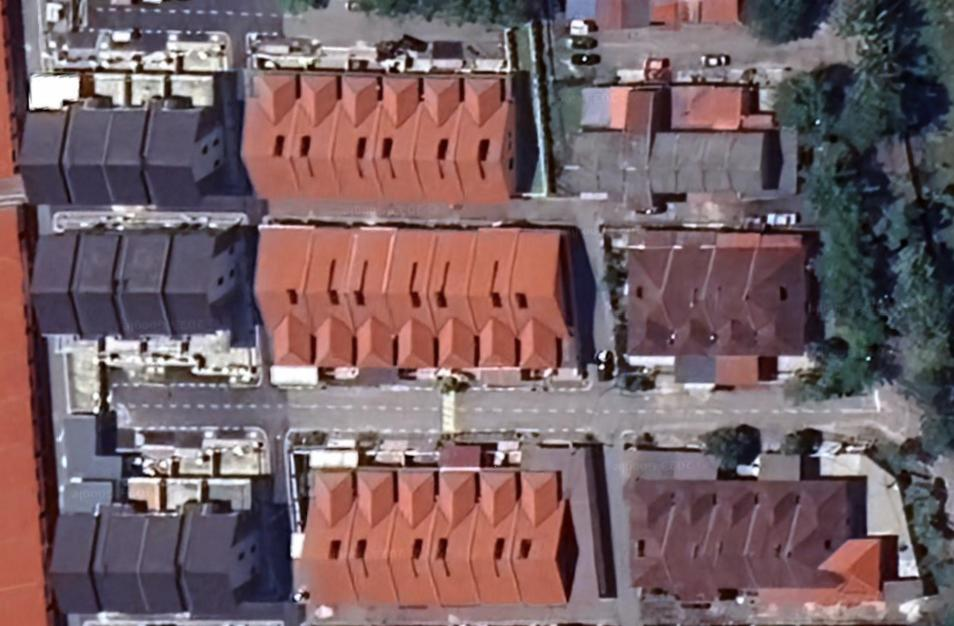building: (796, 471, 887, 596), (251, 220, 319, 369), (511, 227, 575, 376), (234, 69, 304, 202), (298, 468, 364, 609), (514, 467, 573, 609), (669, 474, 729, 613), (350, 468, 407, 610), (174, 507, 244, 622), (392, 469, 447, 611), (431, 226, 484, 372), (432, 469, 485, 612), (337, 72, 392, 208), (461, 74, 516, 208), (391, 223, 440, 372), (618, 472, 679, 591), (378, 73, 431, 208), (474, 226, 524, 369), (311, 227, 361, 369), (354, 223, 401, 373), (13, 104, 77, 212), (24, 227, 86, 338), (479, 470, 528, 609), (296, 72, 346, 206), (419, 75, 469, 209), (623, 242, 680, 357), (756, 474, 810, 595), (751, 244, 807, 359), (668, 241, 721, 362), (124, 226, 179, 342), (712, 476, 765, 596), (708, 242, 761, 361), (151, 102, 208, 211), (79, 227, 133, 342), (166, 229, 221, 341), (110, 99, 163, 213), (66, 100, 120, 211), (85, 512, 142, 616), (43, 509, 94, 618), (133, 508, 180, 619), (560, 129, 606, 198), (622, 130, 657, 214), (648, 128, 684, 198), (734, 128, 768, 199), (708, 128, 741, 201), (682, 128, 714, 199), (604, 131, 629, 204)
